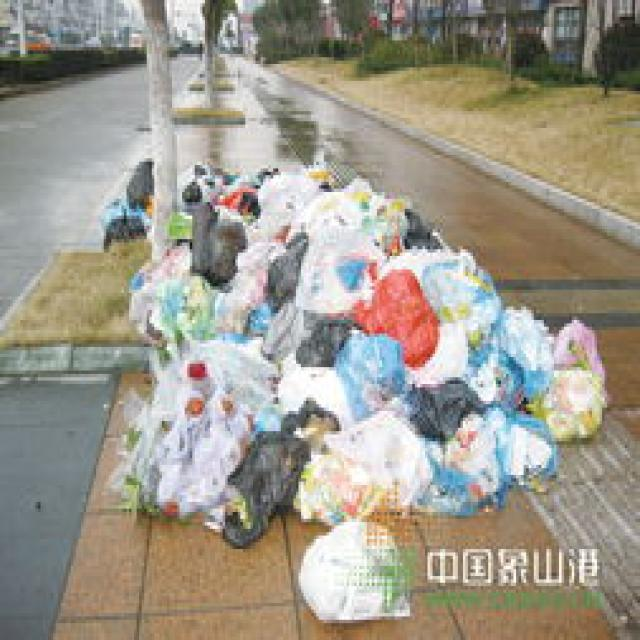garbage: (98, 155, 604, 620)
